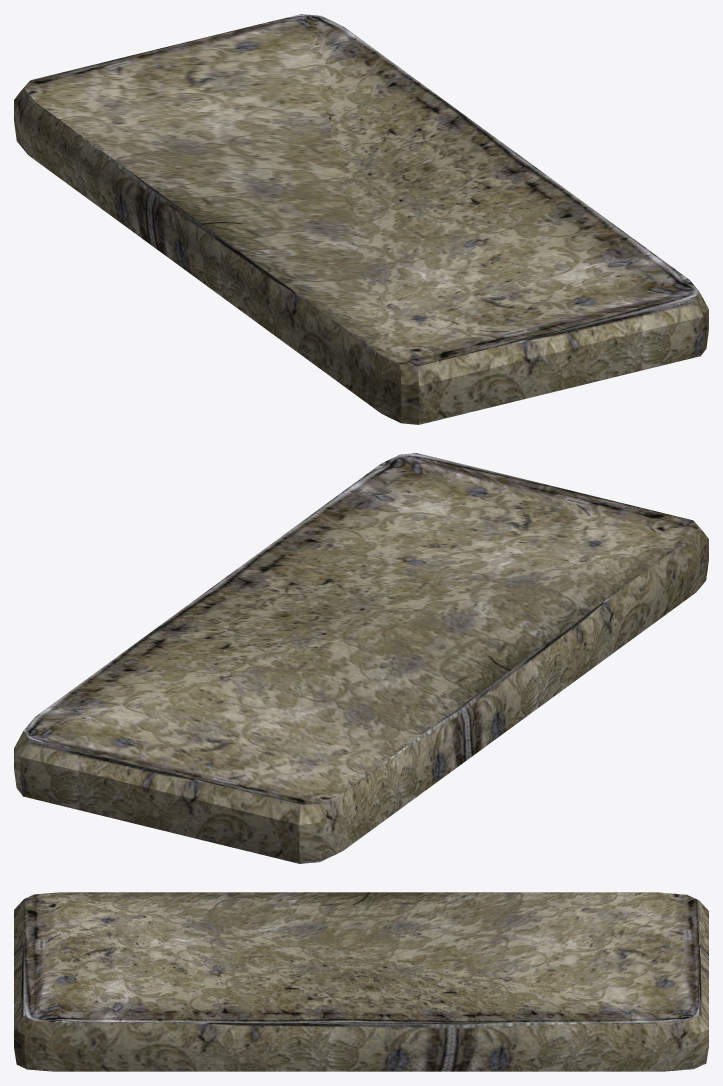
The model's file is COLCHÓN_VIEJO.fbx.
3 renders of one model, top to bottom at view 1: azimuth 30°, elevation 25°; view 2: azimuth 150°, elevation 25°; view 3: azimuth 270°, elevation 25°, orthographic. The views are drawn at different scales.
Parts seen in each view (by area): view 1: CAMA.003; view 2: CAMA.003; view 3: CAMA.003.
Part boxes in pixels (<box>): CAMA.003: <box>14,14,708,424</box>; CAMA.003: <box>14,453,708,863</box>; CAMA.003: <box>14,892,708,1071</box>.
Bounding box in the file's own units: 158 × 26.1 × 346.
